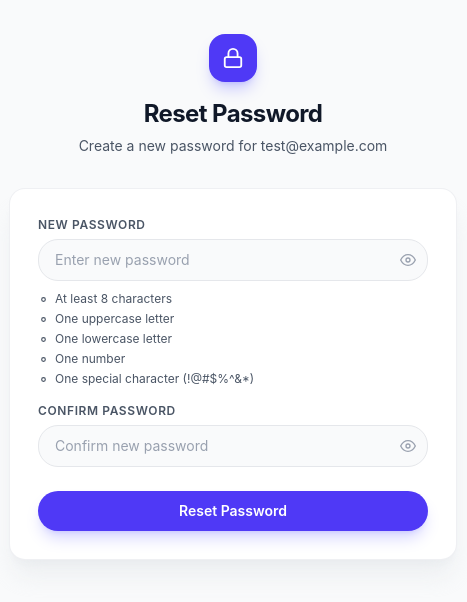
ResetPasswordPage › Password Strength Indicator › should show fair strength for medium password
Type "Medium123" into the password field labelled "New Password" at (233, 260), box 38,239 -> 428,281
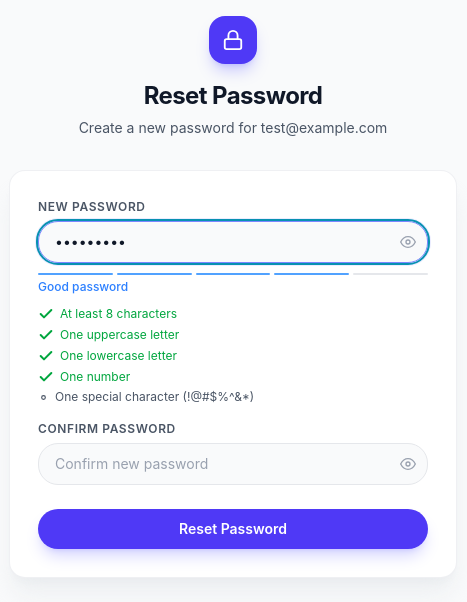
Expected: the text "Good password" is shown, 38,279 -> 128,294
